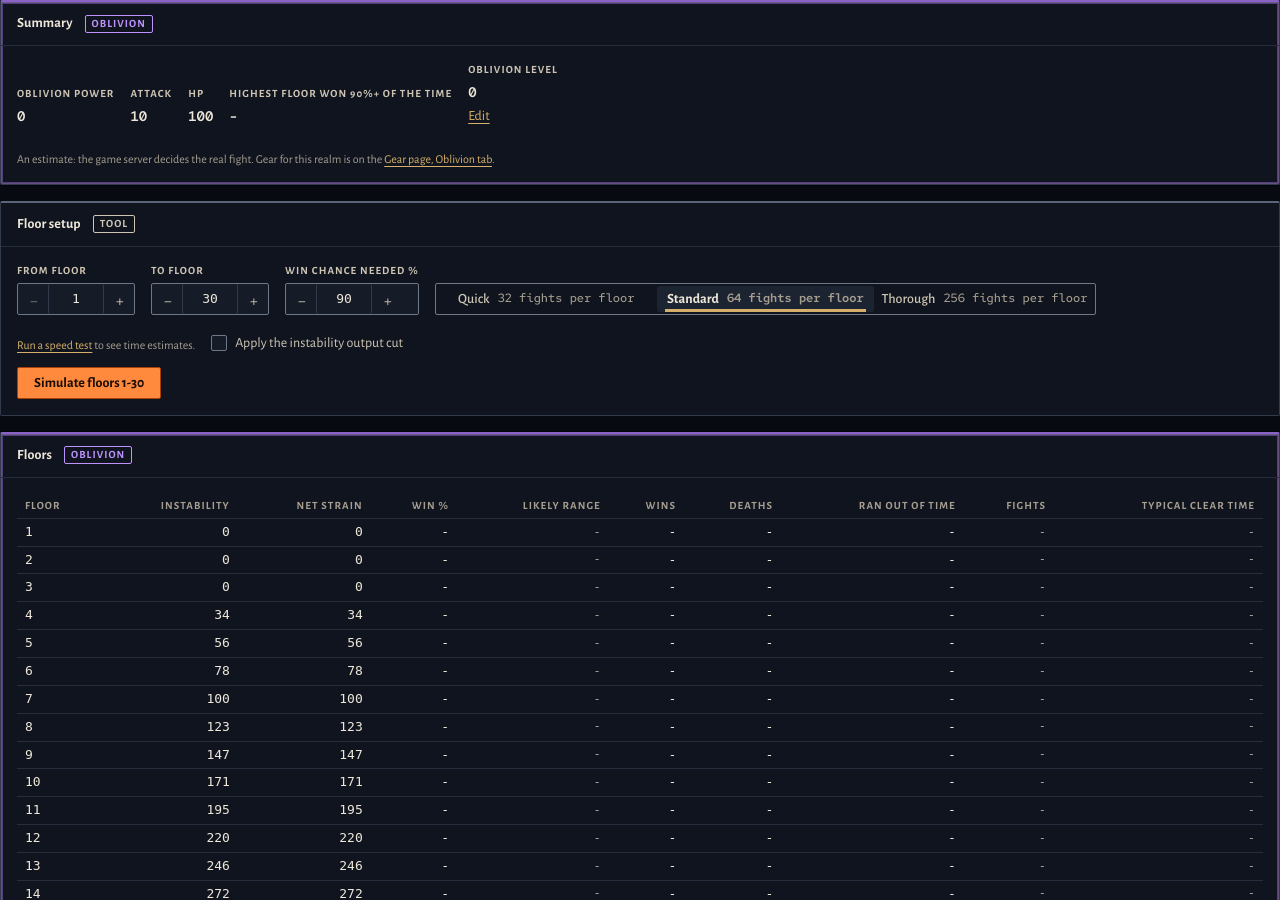
Test: scan: runs as a job with Standard N and the output cut off; labels the estimate, cap, wins/deaths/timeouts
Step 1. Click the button "Simulate floors 1-30" → (89, 383), box [17,367,161,399]
(page scrolled)
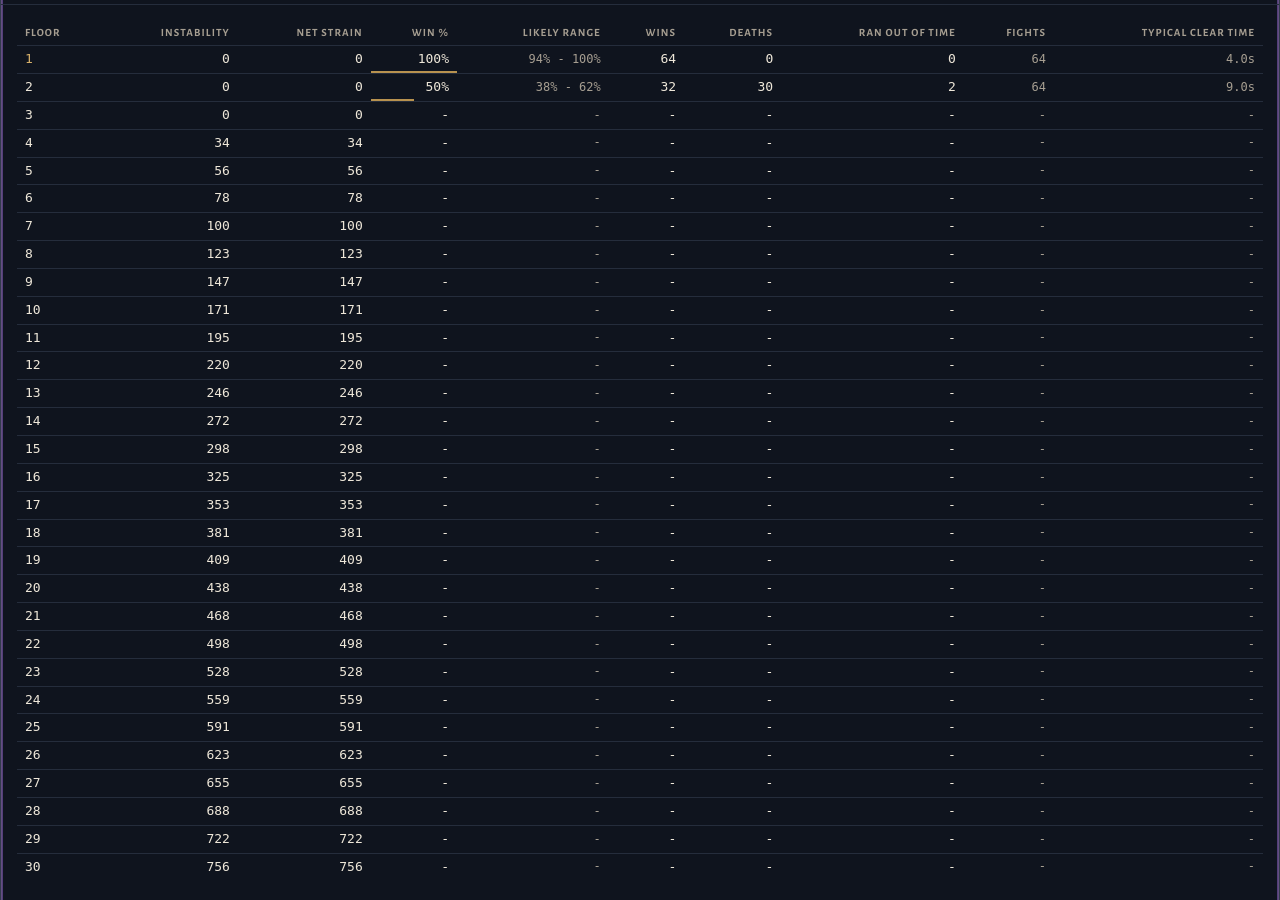
Expected: the text "Likely range" is shown, [457,21,609,46]
Now the row "2 0 0 50% 38% - 62% 32 30 2 64 9.0s" is shown, box [17,74,1263,101]
